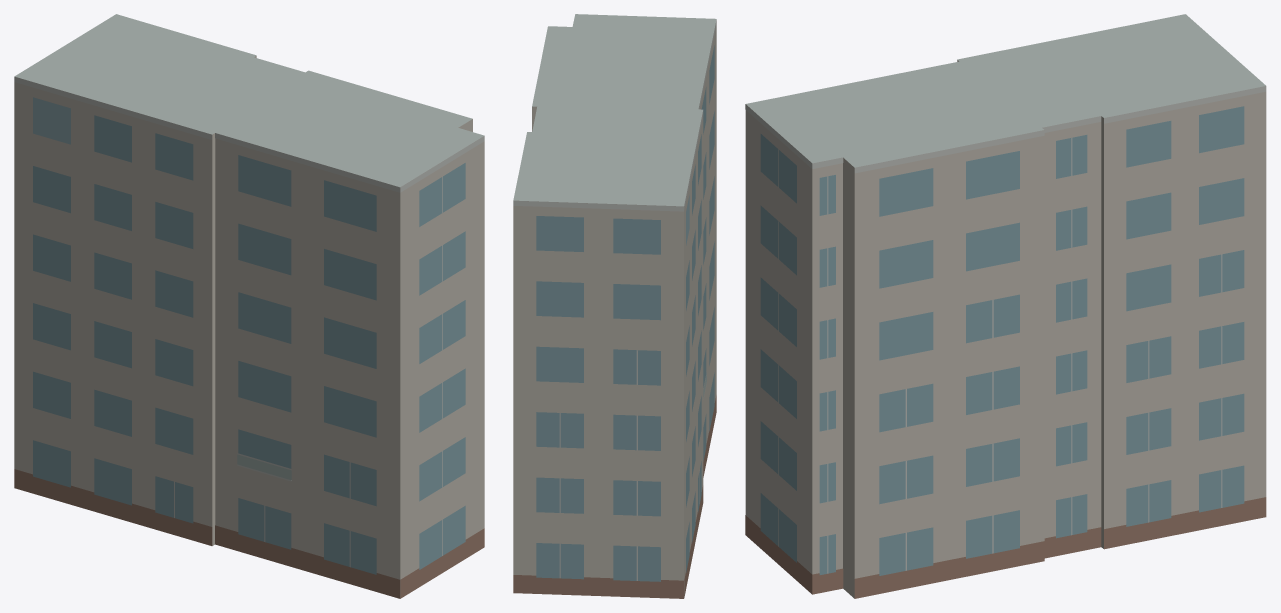
File: survey-upis-32981377.glb
The picture shows the model from 3 angles, left to right: view 1: azimuth 30°, elevation 25°; view 2: azimuth 150°, elevation 25°; view 3: azimuth 270°, elevation 25°; orthographic projection. The views are drawn at different scales.
Visible parts, largest first — view 1: survey-upis-32981377.tmp; view 2: survey-upis-32981377.tmp; view 3: survey-upis-32981377.tmp.
Boxes of the visible parts, left/top/right/bottom form: survey-upis-32981377.tmp: left=14, top=14, right=484, bottom=598; survey-upis-32981377.tmp: left=513, top=14, right=716, bottom=598; survey-upis-32981377.tmp: left=745, top=14, right=1266, bottom=598.
Size of the model in its own units: 14 by 18.3 by 20.05.
